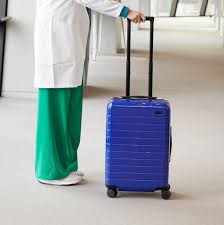suitcase: (99, 14, 173, 201)
